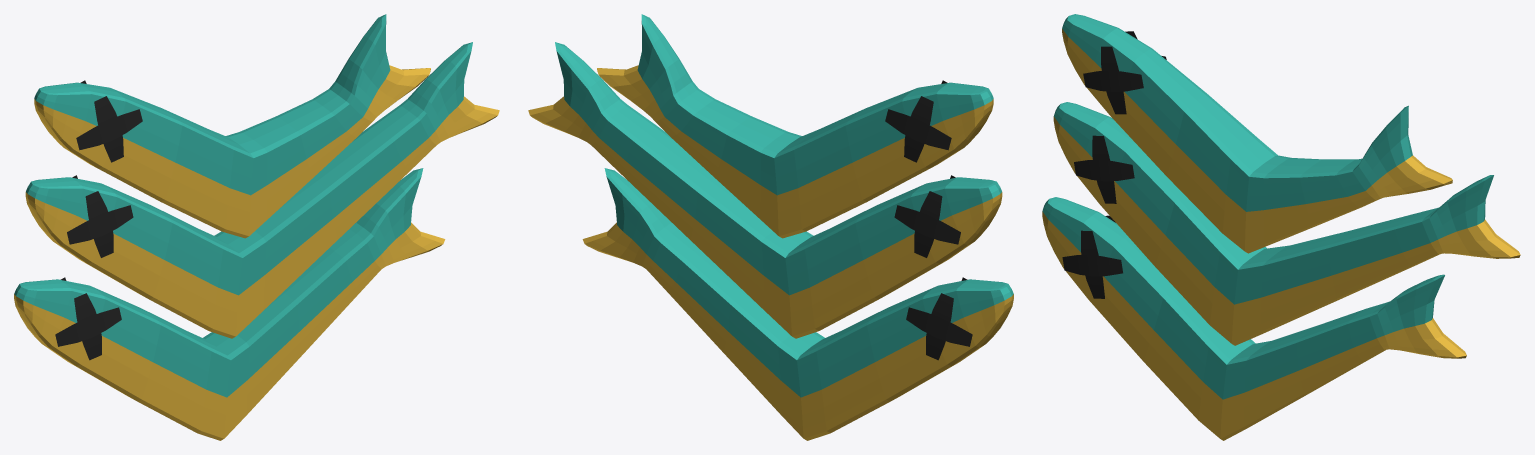
Rendered from FoodIngredient_Shimesaba.fbx.
The picture shows the model from 3 angles, left to right: view 1: azimuth 30°, elevation 25°; view 2: azimuth 150°, elevation 25°; view 3: azimuth 330°, elevation 25°; orthographic projection.
Visible parts, largest first — view 1: FoodIngredient_Shimesaba; view 2: FoodIngredient_Shimesaba; view 3: FoodIngredient_Shimesaba.
Boxes of the visible parts, x1,y1,x2,y2 form: FoodIngredient_Shimesaba: (14, 14, 499, 440); FoodIngredient_Shimesaba: (528, 14, 1013, 440); FoodIngredient_Shimesaba: (1042, 14, 1520, 440).
Bounding box in the file's own units: 77.1 × 58.49 × 8.17.
